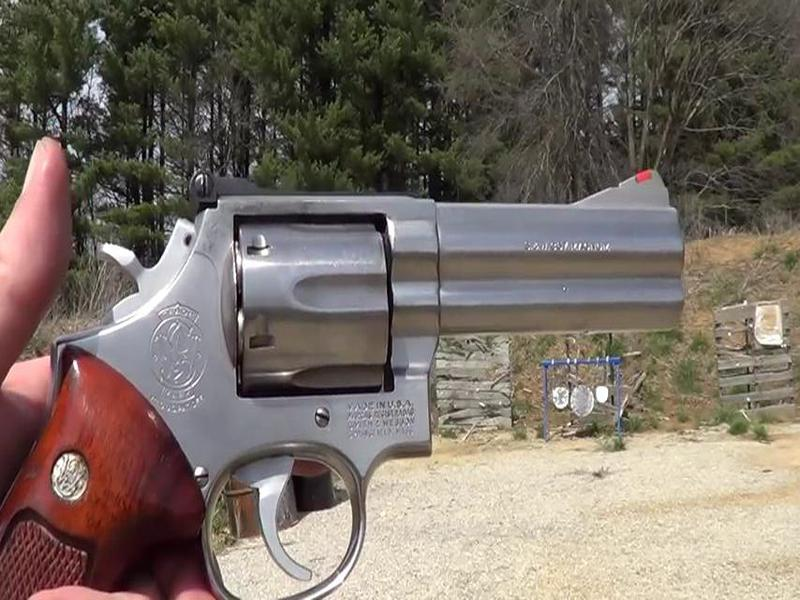Revolver: (30, 176, 696, 544)
